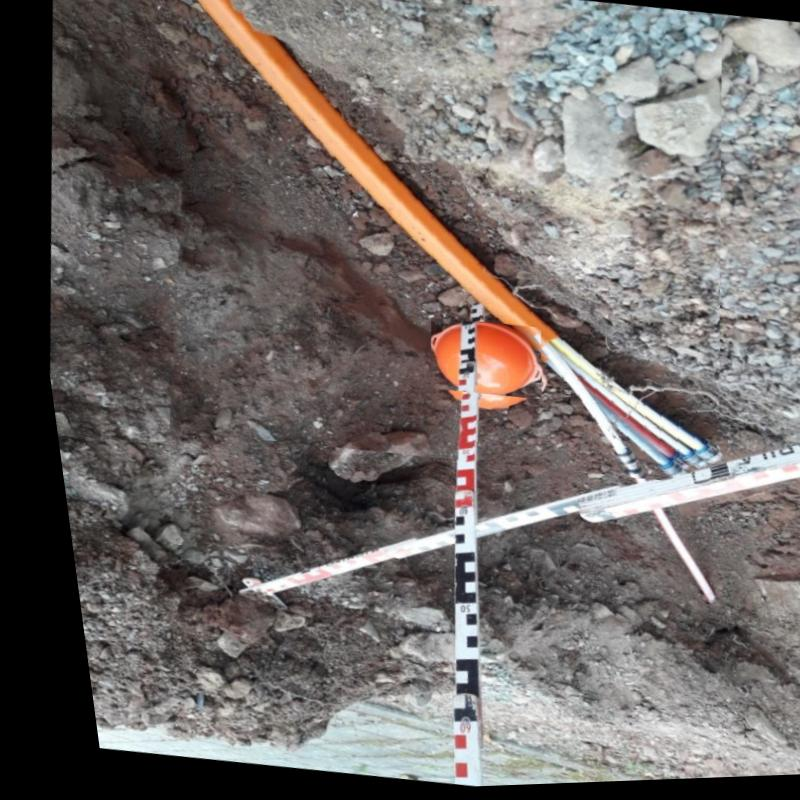Kugelmarker: (420, 326, 530, 397)
Orang-Speednetrohrchen: (199, 0, 705, 482)
